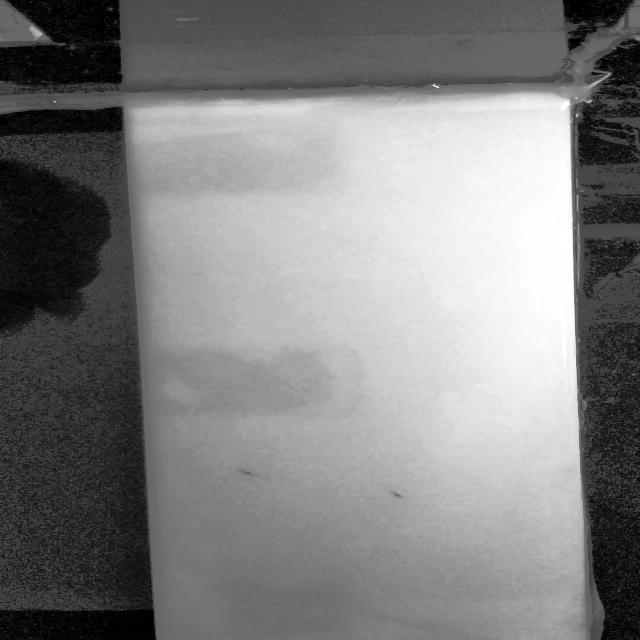shrimp: (233, 466, 268, 481), (382, 487, 412, 504)
